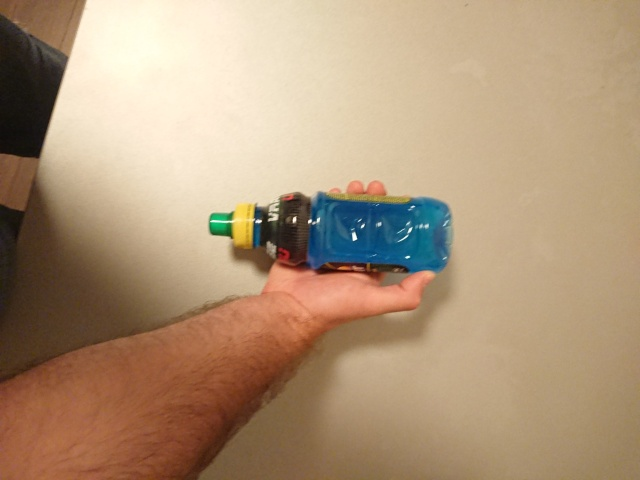Vindi Iso Sport Forest Strawberries 500mL: (207, 189, 455, 276)
